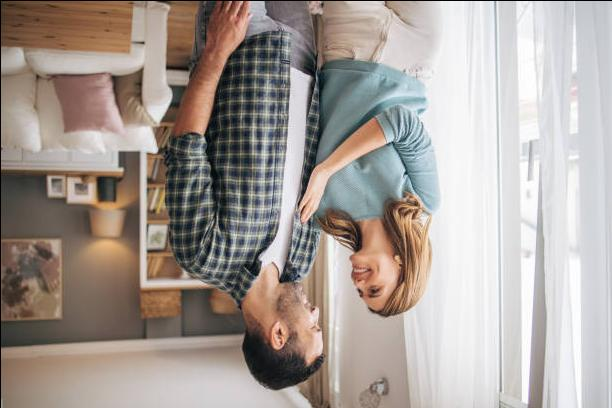Non_Gorille: (134, 10, 446, 394)
